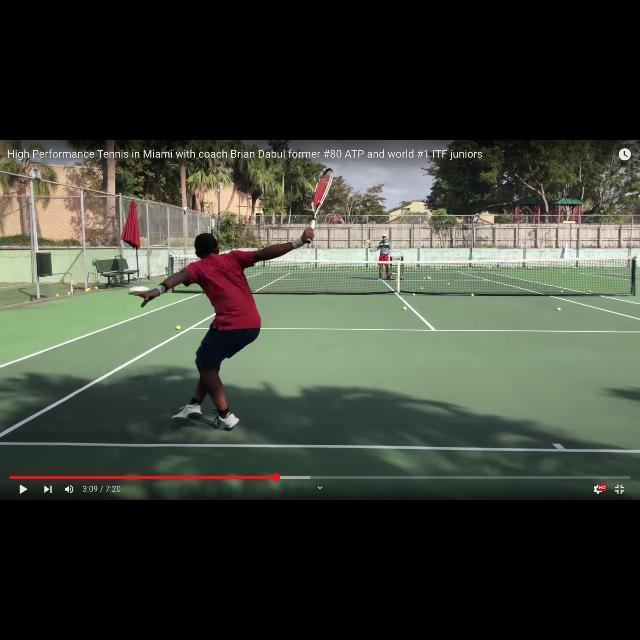tennis-ball: (402, 306, 406, 310), (176, 325, 180, 329), (412, 292, 414, 296), (558, 307, 560, 311), (471, 294, 474, 296), (56, 294, 59, 296), (95, 287, 97, 289), (85, 289, 87, 291), (68, 292, 70, 294)
